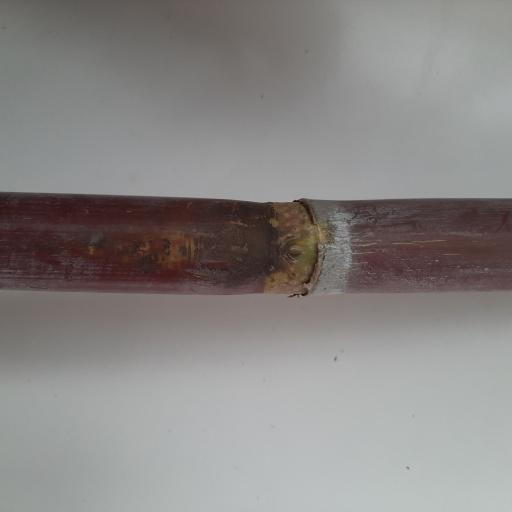Bud: (283, 239, 310, 260)
